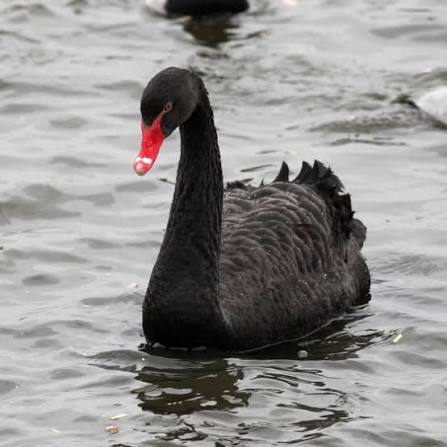black_swan: (133, 64, 373, 351)
